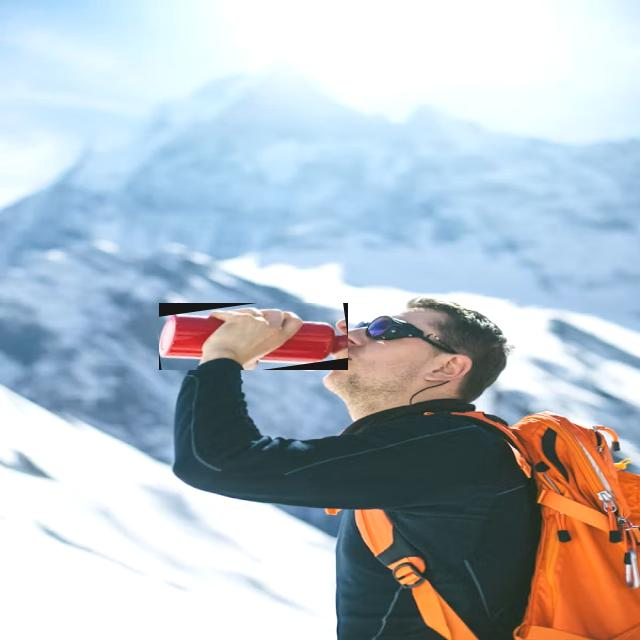Bottle: (258, 329, 346, 369)
